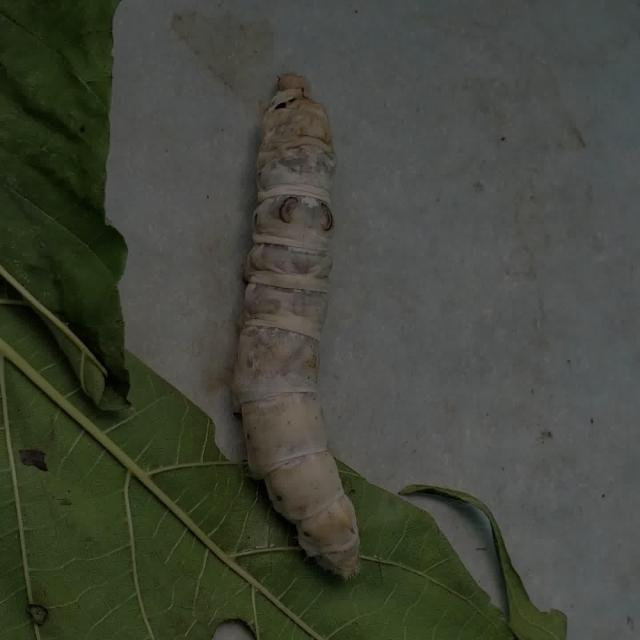Grasserie: (200, 60, 419, 597)
